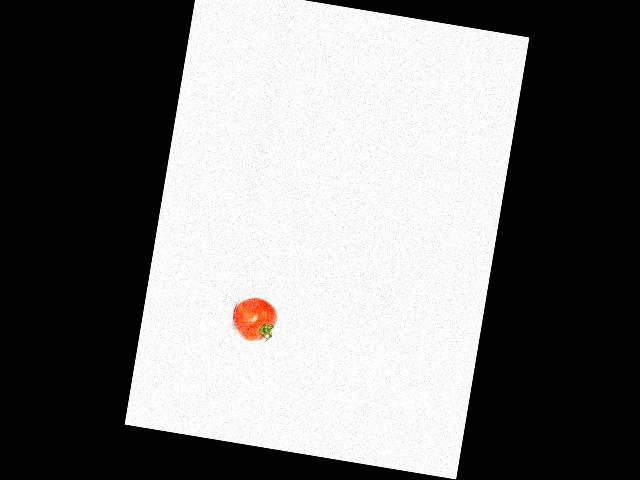tomato: (229, 294, 280, 344)
